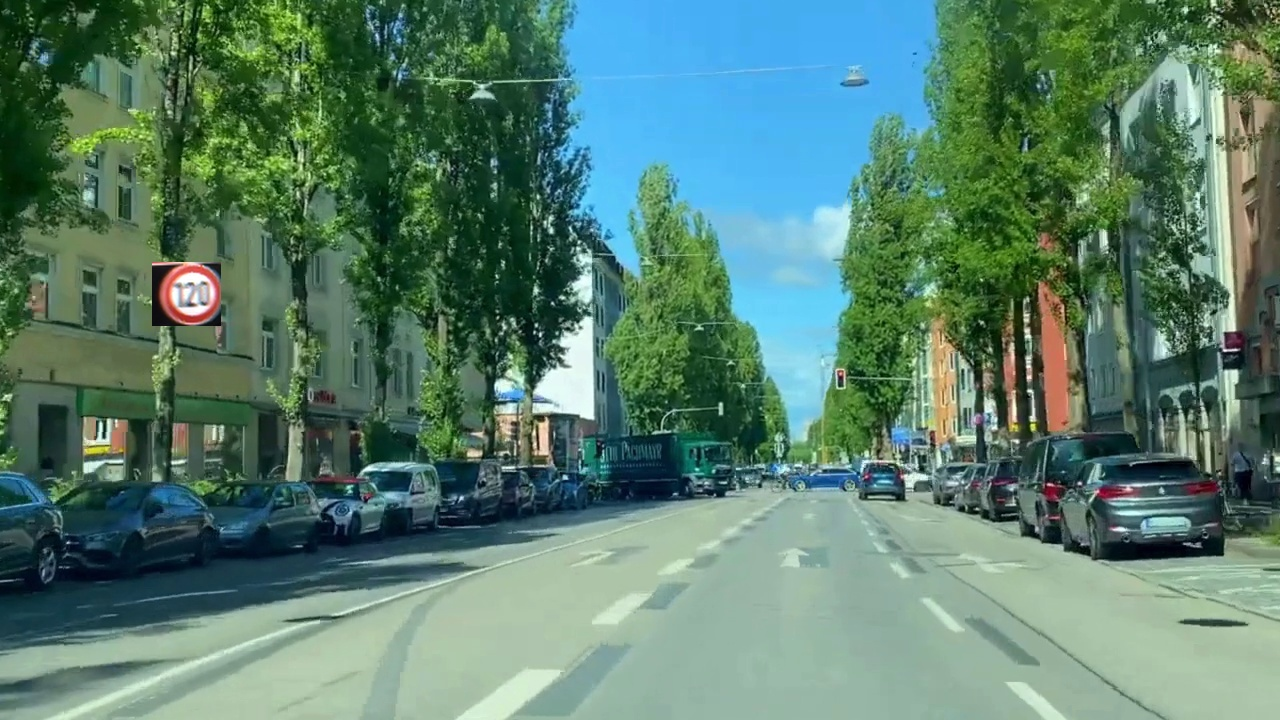Speed 120: (152, 262, 221, 326)
